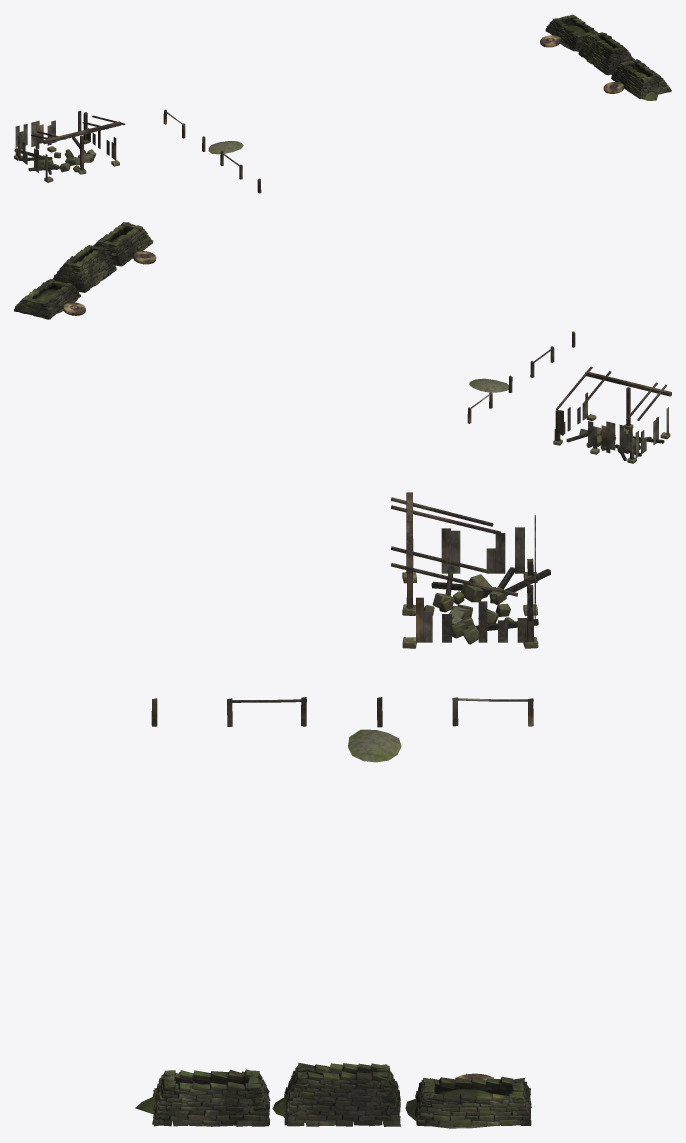
Rendered from archery_range_ruin.glb.
3 renders of one model, top to bottom at view 1: azimuth 30°, elevation 25°; view 2: azimuth 150°, elevation 25°; view 3: azimuth 270°, elevation 25°, orthographic. The views are drawn at different scales.
Parts seen in each view (by area): view 1: archery_range_ruin_LOD0; view 2: archery_range_ruin_LOD0; view 3: archery_range_ruin_LOD0.
Part boxes in pixels (x1,y1,x2,y2): archery_range_ruin_LOD0: (14,14,671,193); archery_range_ruin_LOD0: (14,222,671,463); archery_range_ruin_LOD0: (135,492,550,1128).
Size of what is drawn, in the model's own units: 39.11 by 3.06 by 12.39.
1 material, 1 textured.
